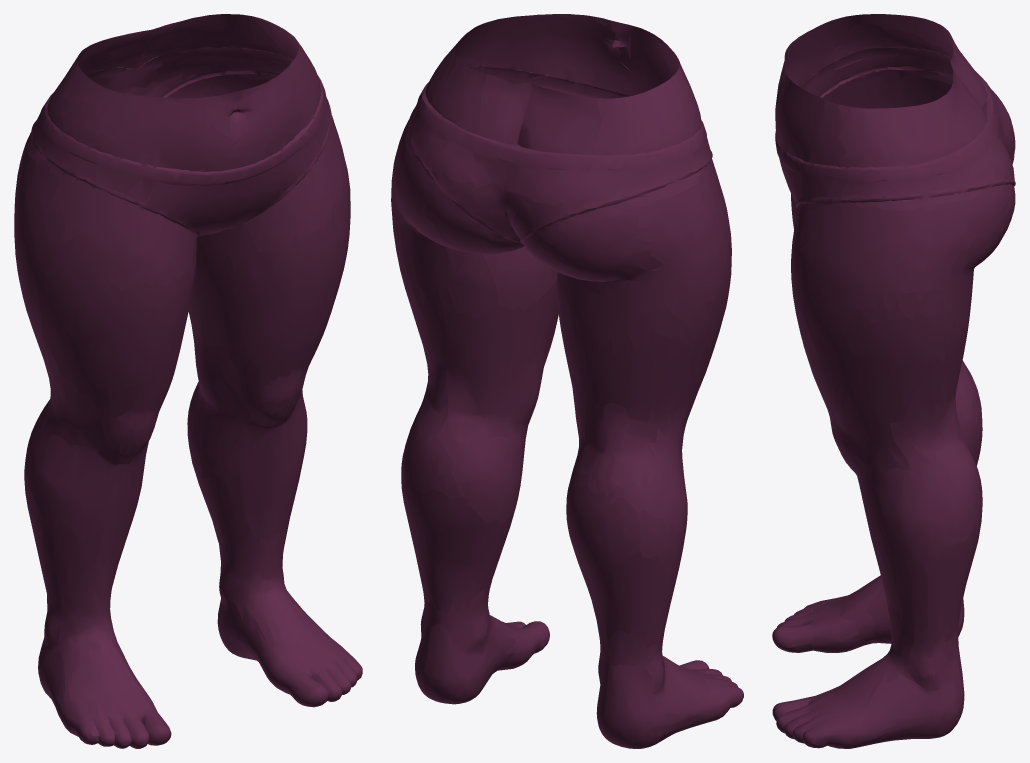
Rendered from legs_f_tights_plum.glb.
3 views of the same model, side by side, from view 1: azimuth 30°, elevation 25°; view 2: azimuth 150°, elevation 25°; view 3: azimuth 270°, elevation 25° (orthographic). The views are drawn at different scales.
Parts seen in each view (by area): view 1: legs_f_tights_plum; view 2: legs_f_tights_plum; view 3: legs_f_tights_plum.
Part boxes in pixels (x1,y1,x2,y2): legs_f_tights_plum: (14, 14, 362, 748); legs_f_tights_plum: (391, 14, 743, 748); legs_f_tights_plum: (772, 14, 1015, 748).
Size of the model in its own units: 0.5054 by 0.984 by 0.3448.
1 material, 1 textured.
